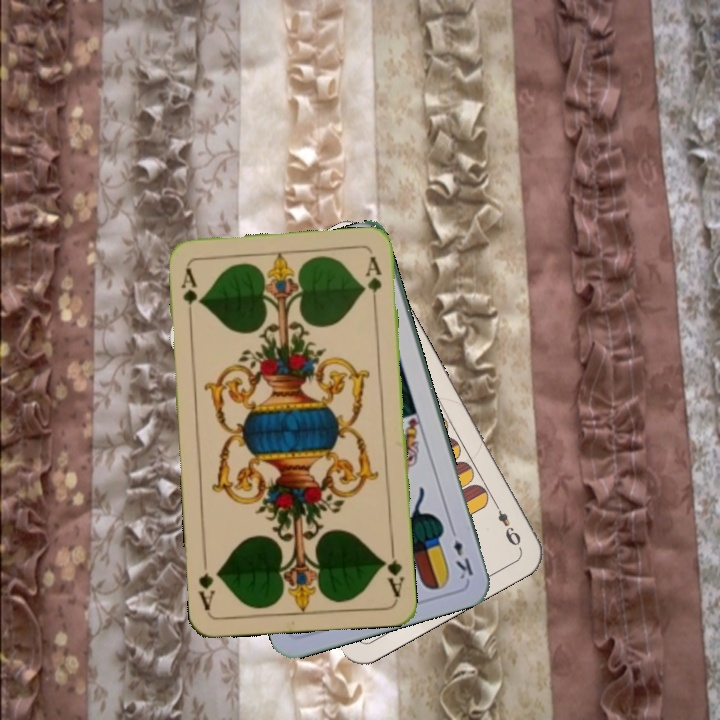E9: (489, 496, 524, 548)
EK: (446, 523, 476, 582)
GA: (378, 540, 407, 600), (176, 263, 203, 322)
